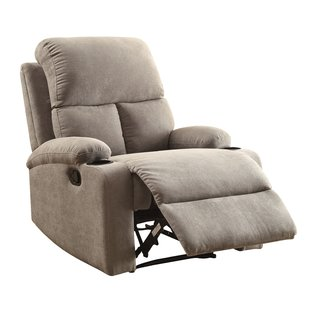chairs: (17, 34, 298, 278)
